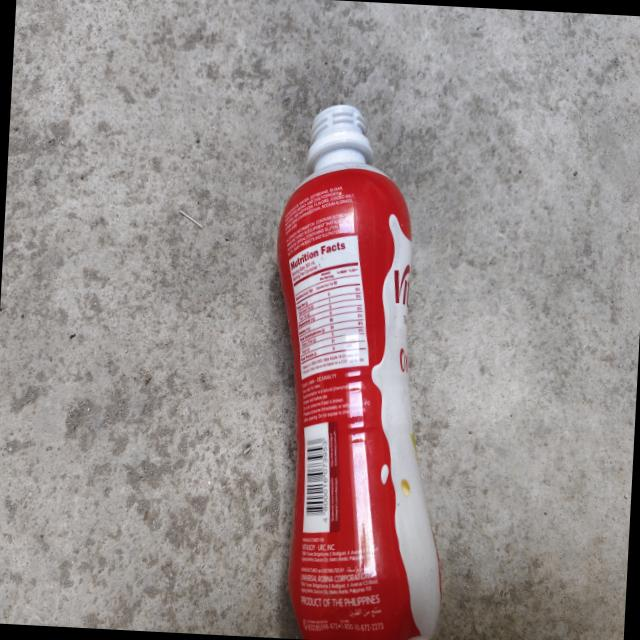Bottle: (278, 105, 440, 640)
